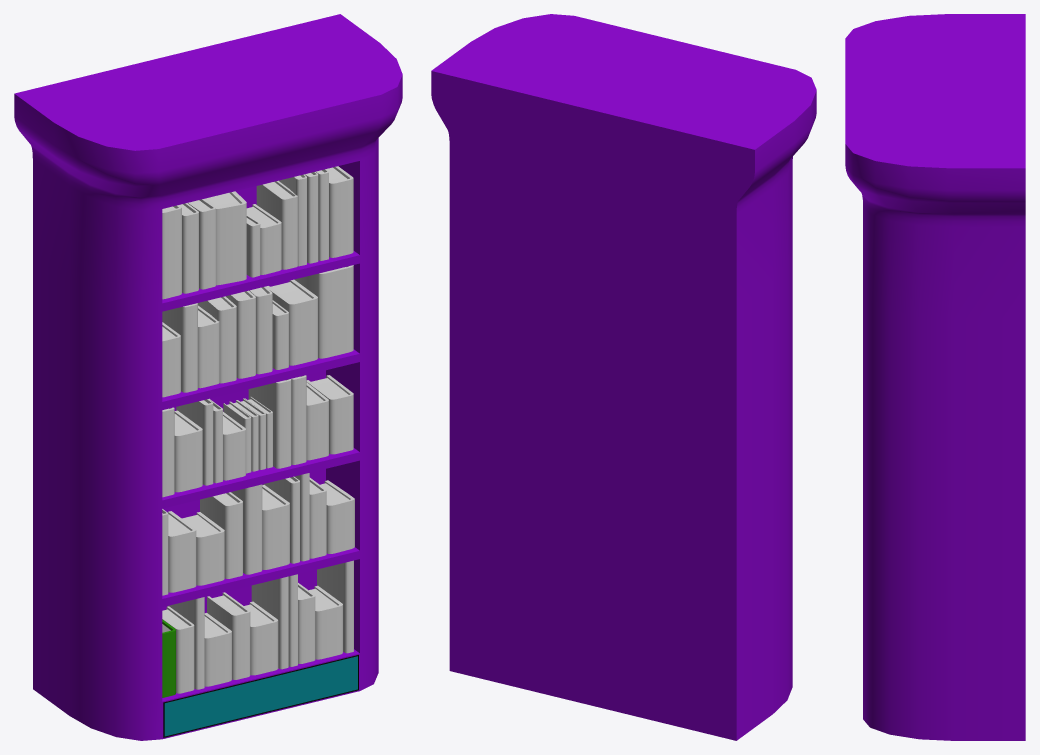
File: bookcase.fbx
3 views of the same model, side by side, from view 1: azimuth 30°, elevation 25°; view 2: azimuth 150°, elevation 25°; view 3: azimuth 270°, elevation 25° (orthographic). The views are drawn at different scales.
Parts seen in each view (by area): view 1: book case.002, book case.044, book case.052, book case.043, book case.019, book case.045, book case.049, book case.032, book case.017, book case.006, book case.024, book case.021 (+39 smaller); view 2: book case.002; view 3: book case.002.
Part boxes in pixels (x1,y1,x2,y2): book case.002: [14, 14, 402, 740]; book case.044: [294, 265, 353, 358]; book case.052: [204, 191, 246, 285]; book case.043: [266, 279, 317, 365]; book case.019: [200, 492, 242, 578]; book case.045: [326, 166, 353, 257]; book case.049: [256, 180, 297, 269]; book case.032: [248, 379, 291, 468]; book case.017: [262, 485, 289, 569]; book case.006: [207, 592, 250, 679]; book case.024: [174, 410, 202, 492]; book case.021: [168, 511, 196, 592]; book case.002: [431, 14, 816, 740]; book case.002: [845, 14, 1025, 740].
Size of the model in its own units: 804 by 1413 by 397.
